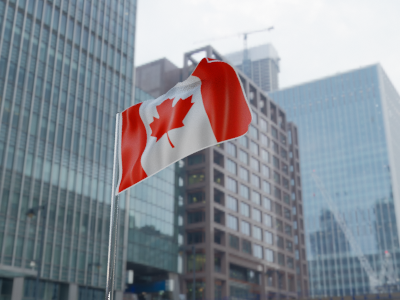Canada flag: (118, 56, 253, 192)
